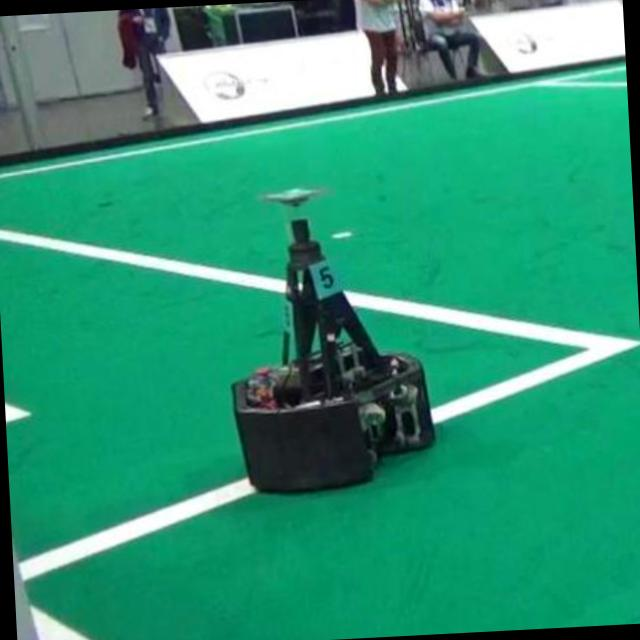robot: (233, 188, 435, 492)
